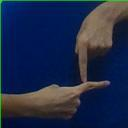hand: (36, 81, 113, 118), (74, 19, 113, 82)
